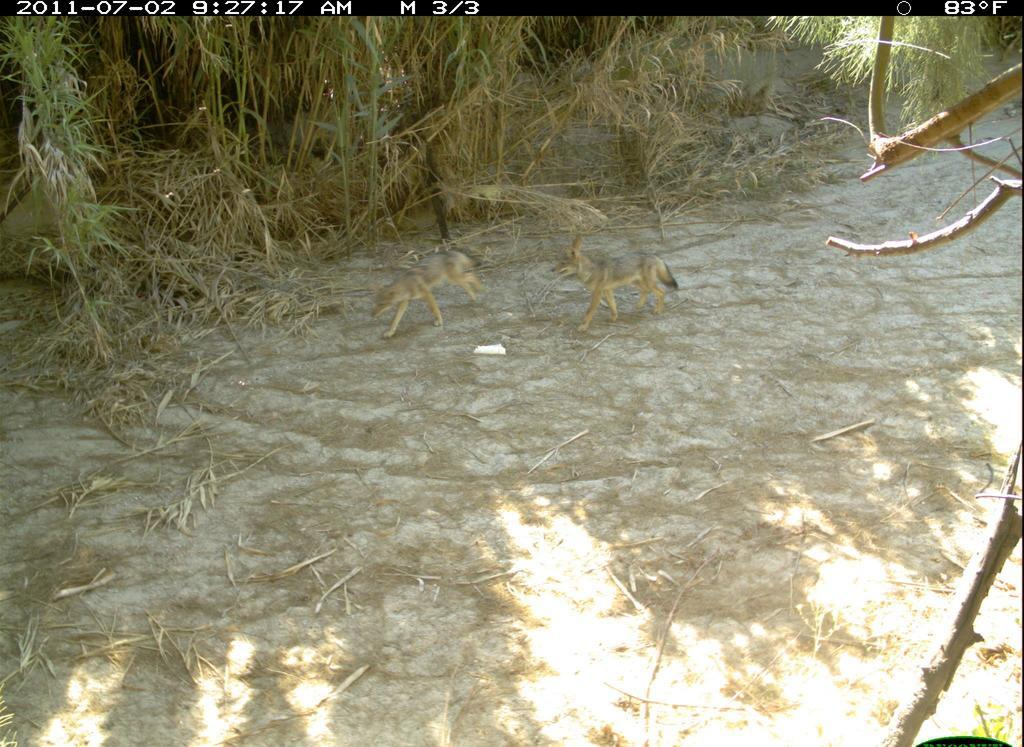coyote: (541, 225, 707, 332), (367, 249, 493, 342)
